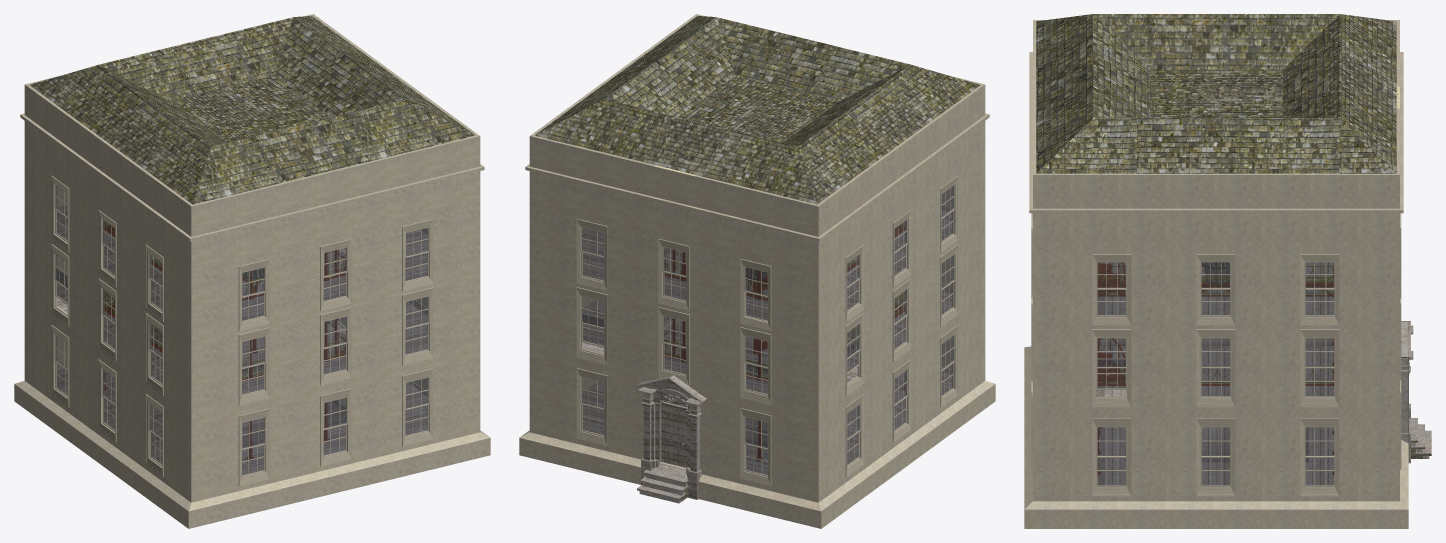
File: armskingredoo1.fbx
3 views of the same model, side by side, from view 1: azimuth 30°, elevation 25°; view 2: azimuth 150°, elevation 25°; view 3: azimuth 270°, elevation 25° (orthographic). The views are drawn at different scales.
Parts seen in each view (by area): view 1: walls_doorway_Cube_005; view 2: walls_doorway_Cube_005; view 3: walls_doorway_Cube_005.
Part boxes in pixels (x1,y1,x2,y2): walls_doorway_Cube_005: (14, 14, 490, 528); walls_doorway_Cube_005: (519, 14, 995, 528); walls_doorway_Cube_005: (1024, 14, 1431, 528).
Bounding box in the file's own units: 1600 × 1755 × 1696.
Materials: 9 (6 with a texture image).
